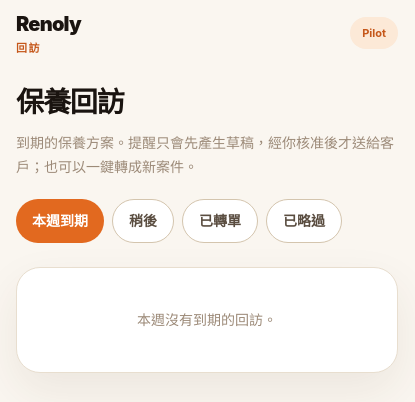
Test: FollowUpsView › shows the 已轉單 tab for a completed plan
Click the tab "已轉單": (220, 220) [182,198,258,242]
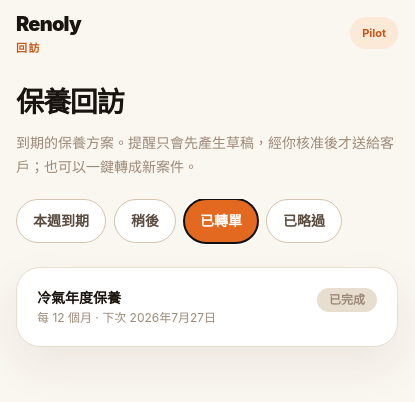
Expected: the text "冷氣年度保養" is shown, [37,288,121,306]
